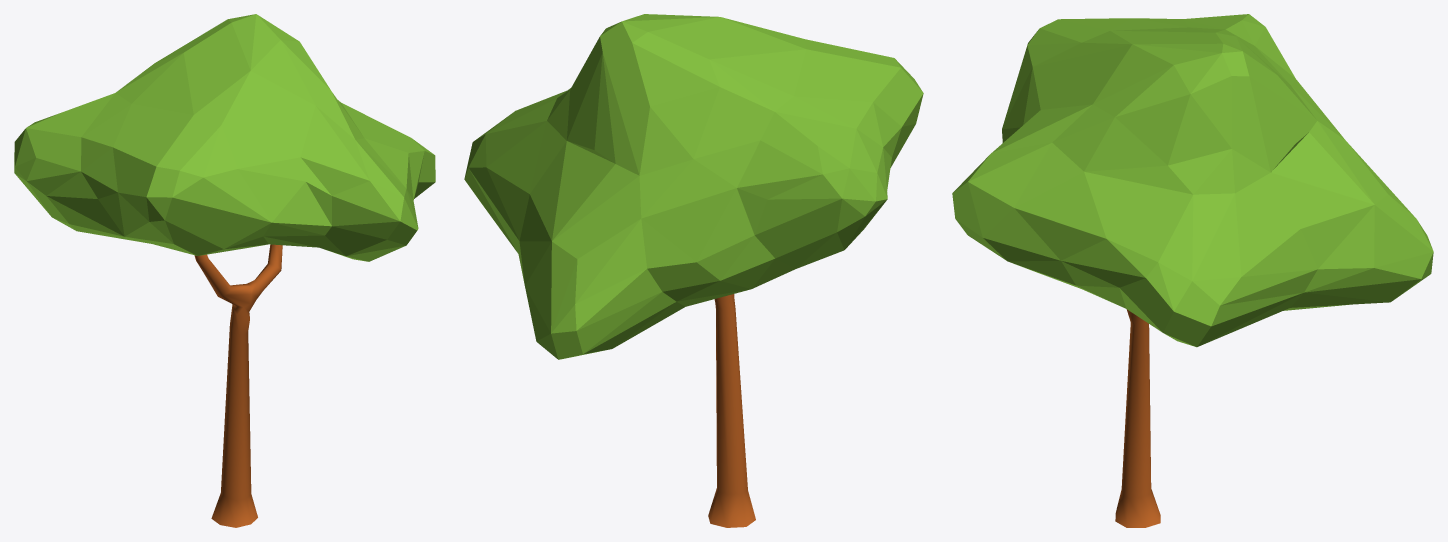
File: Tree_26_Spring.fbx
The picture shows the model from 3 angles, left to right: view 1: azimuth 30°, elevation 25°; view 2: azimuth 150°, elevation 25°; view 3: azimuth 270°, elevation 25°; orthographic projection. The views are drawn at different scales.
Parts seen in each view (by area): view 1: Tree_26_p2_Spring, Tree_26_p1_Spring; view 2: Tree_26_p2_Spring, Tree_26_p1_Spring; view 3: Tree_26_p2_Spring, Tree_26_p1_Spring.
Part boxes in pixels (bbox=[...]): Tree_26_p2_Spring: bbox=[14, 14, 435, 261]; Tree_26_p1_Spring: bbox=[194, 244, 282, 527]; Tree_26_p2_Spring: bbox=[464, 14, 923, 359]; Tree_26_p1_Spring: bbox=[708, 294, 755, 527]; Tree_26_p2_Spring: bbox=[952, 14, 1433, 347]; Tree_26_p1_Spring: bbox=[1115, 309, 1160, 527].
Size of the model in its own units: 527 by 592 by 520.
